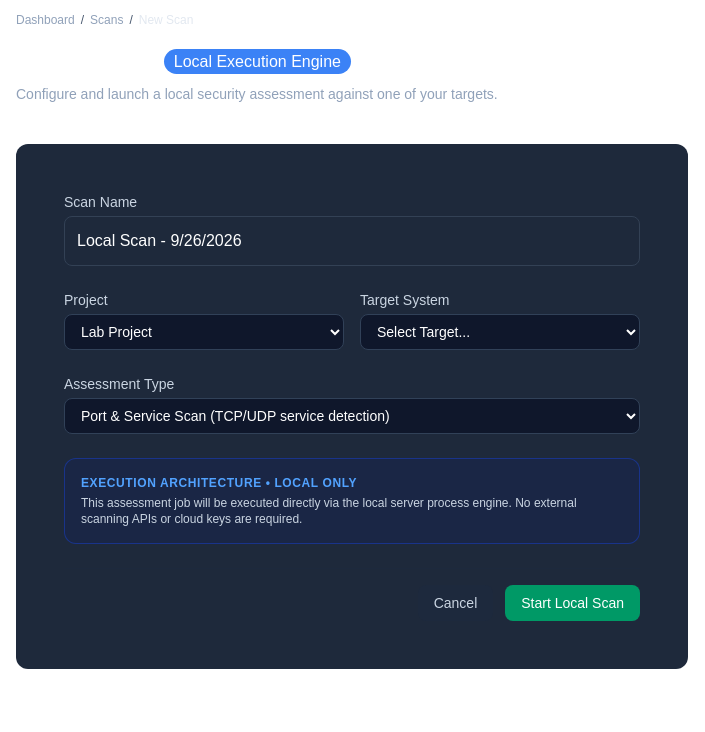
Test: NewScanPage error handling › presents a network failure distinctly from an API error
Expected: the text "Scan Name" is shown, top-left (64, 194), bottom-right (137, 210)
Select "Lab Target (10.0.0.1)" in the dropdown named "targetId" below "Target System" at coordinates (500, 332), box top-left (360, 314), bottom-right (640, 350)
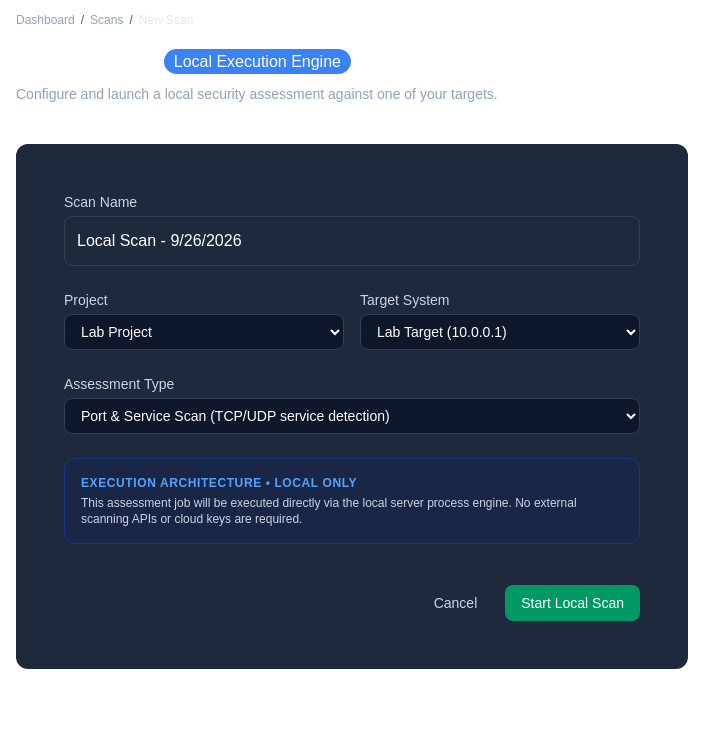
Submit the form named "Start Local Scan", box top-left (40, 168), bottom-right (664, 645)
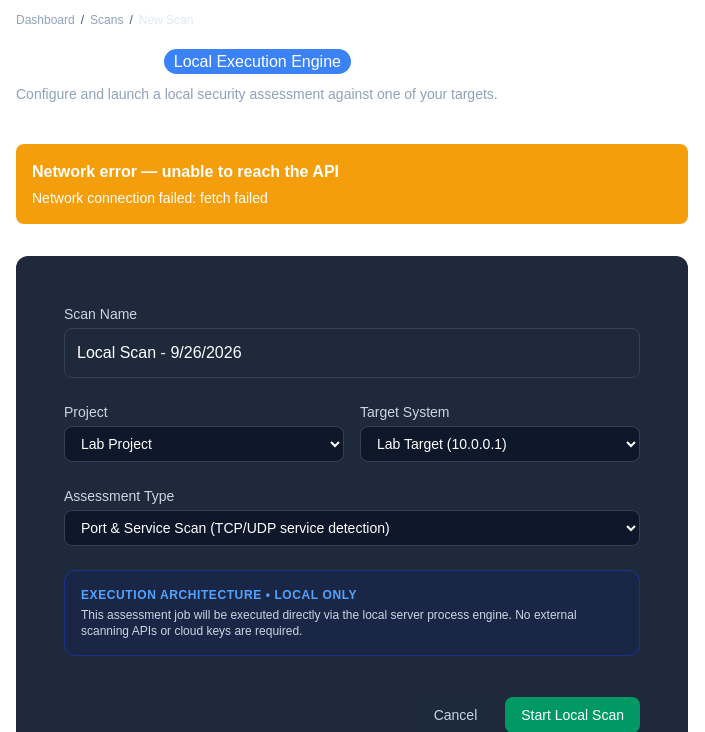
Result: the text "Network error — unable to reach the API" is shown at top-left (32, 163), bottom-right (339, 180)
Result: the text "Network connection failed: fetch failed" is shown at top-left (32, 190), bottom-right (268, 206)
